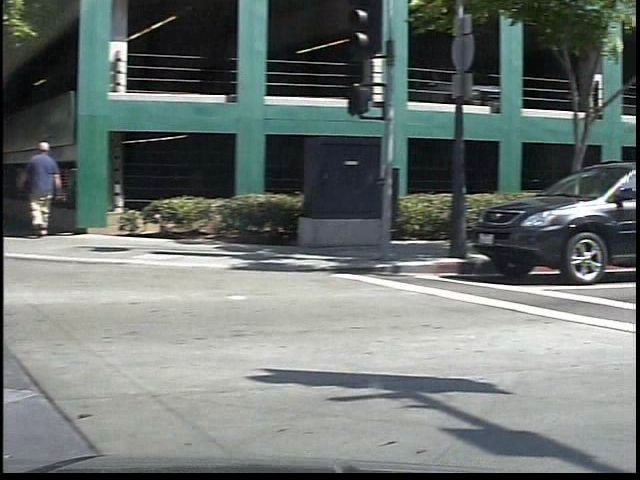person: (30, 136, 83, 242)
